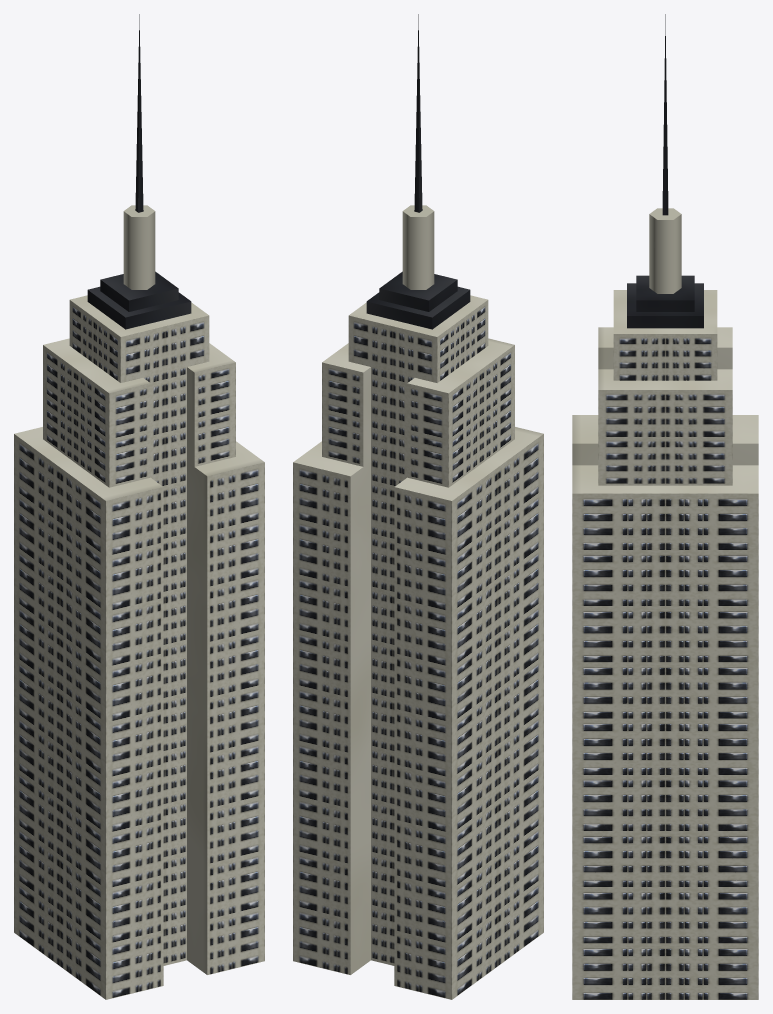
The model's file is NyBuild_03.fbx.
The picture shows the model from 3 angles, left to right: view 1: azimuth 30°, elevation 25°; view 2: azimuth 150°, elevation 25°; view 3: azimuth 270°, elevation 25°; orthographic projection.
Visible parts, largest first — view 1: Плоскость.004; view 2: Плоскость.004; view 3: Плоскость.004.
Part boxes in pixels (x1=…): Плоскость.004: x1=14, y1=14, x2=264, y2=999; Плоскость.004: x1=293, y1=14, x2=543, y2=999; Плоскость.004: x1=572, y1=14, x2=758, y2=999.
Bounding box in the file's own units: 947 × 5312 × 949.
1 material, 1 textured.
